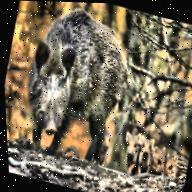boar: (8, 0, 147, 172)
